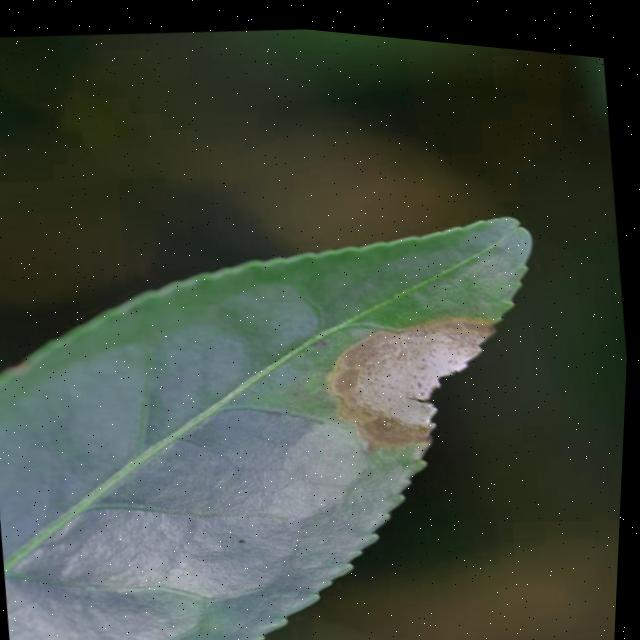Tea cloud leaf blight: (317, 288, 528, 472)
